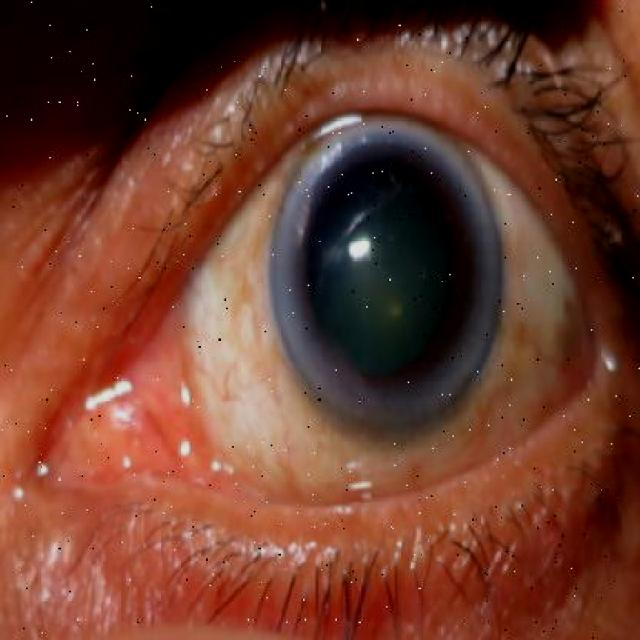Cataract: (260, 123, 512, 442)
